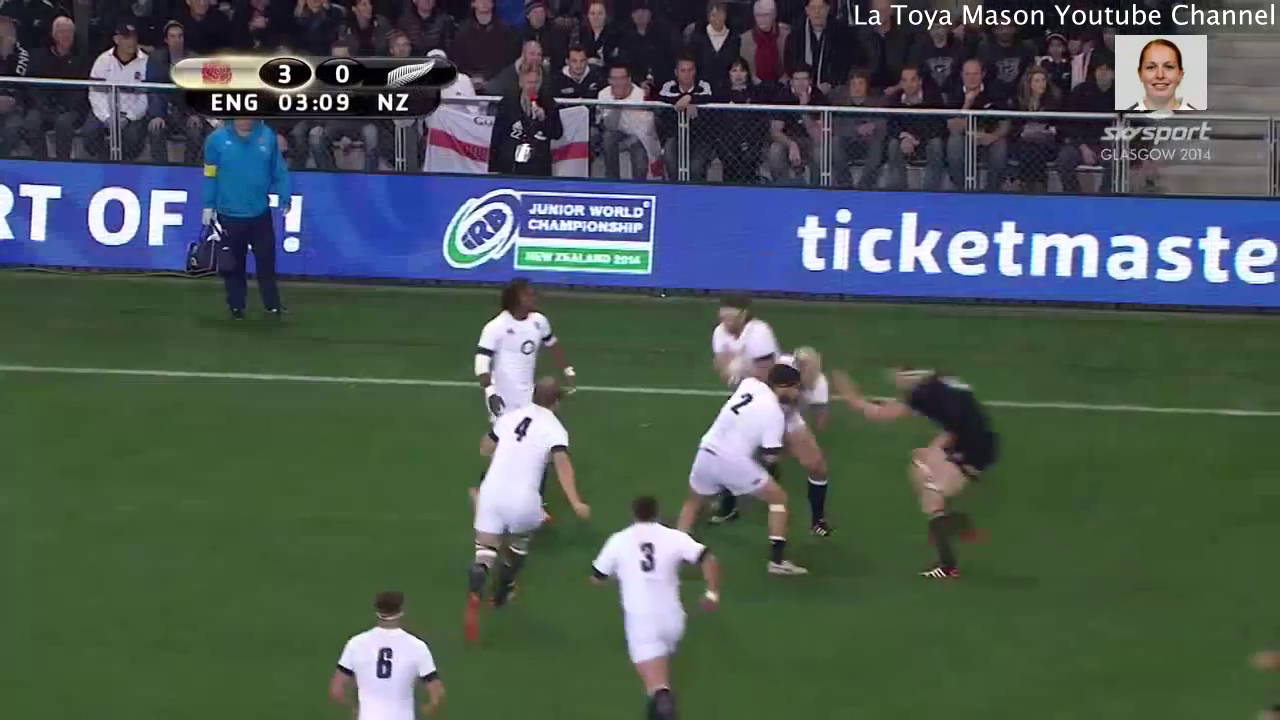player: (829, 352, 1003, 595), (450, 366, 596, 648), (660, 353, 817, 605), (583, 486, 725, 720), (465, 270, 576, 457), (761, 324, 845, 554), (317, 576, 448, 720), (700, 296, 793, 380)
